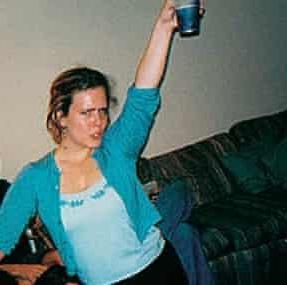Drunk: (71, 90, 111, 148)
